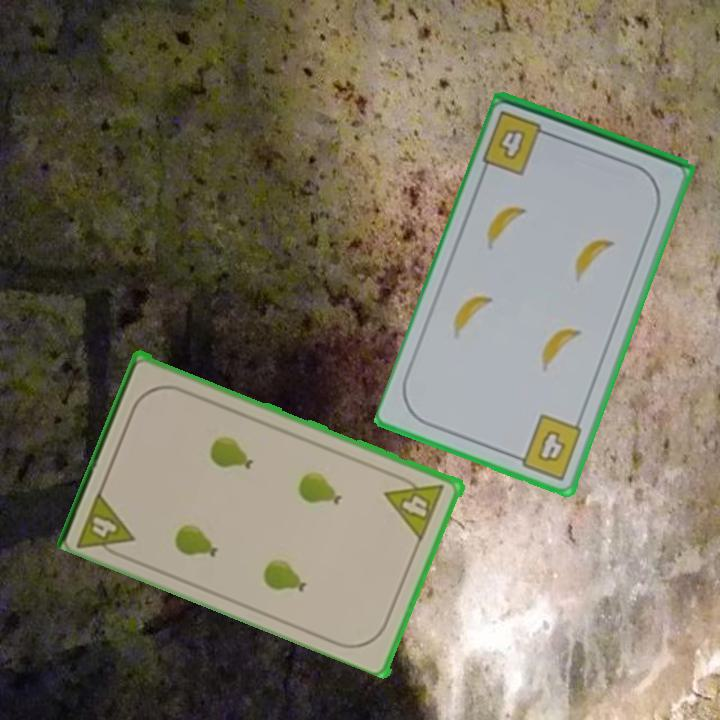4b: (509, 410, 586, 483), (479, 107, 558, 178)
4p: (73, 485, 139, 563), (382, 469, 447, 542)
